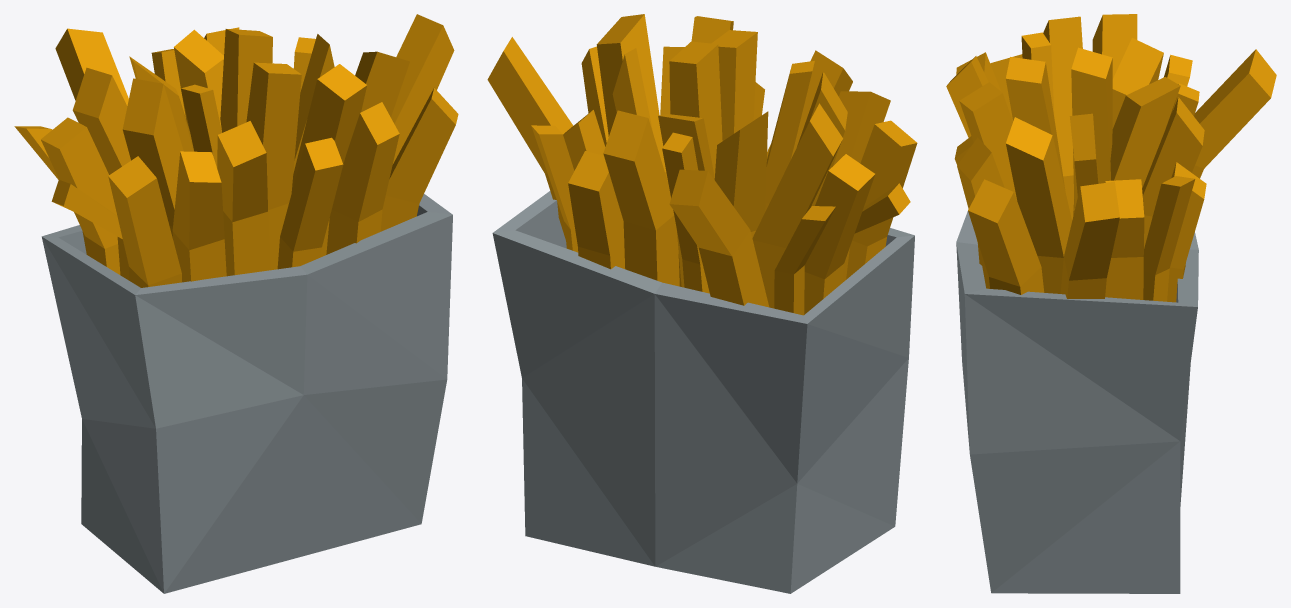
File: ChipBox.glb
3 renders of one model, left to right at view 1: azimuth 30°, elevation 25°; view 2: azimuth 150°, elevation 25°; view 3: azimuth 270°, elevation 25°, orthographic. The views are drawn at different scales.
Visible parts, largest first — view 1: ChipBox; view 2: ChipBox; view 3: ChipBox.
Part boxes in pixels (x1,y1,x2,y2): ChipBox: (14,14,458,593); ChipBox: (487,14,917,593); ChipBox: (946,14,1276,593).
Bounding box in the file's own units: 0.154 × 0.1795 × 0.1117.
